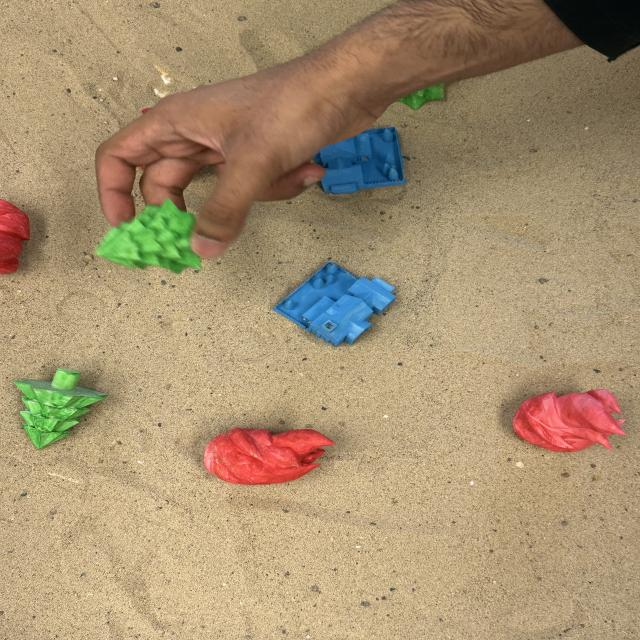fire: (201, 426, 336, 486), (510, 387, 628, 453), (0, 194, 32, 274)
house: (272, 259, 398, 348), (311, 124, 408, 196)
tree: (98, 200, 206, 276), (12, 366, 108, 451)
